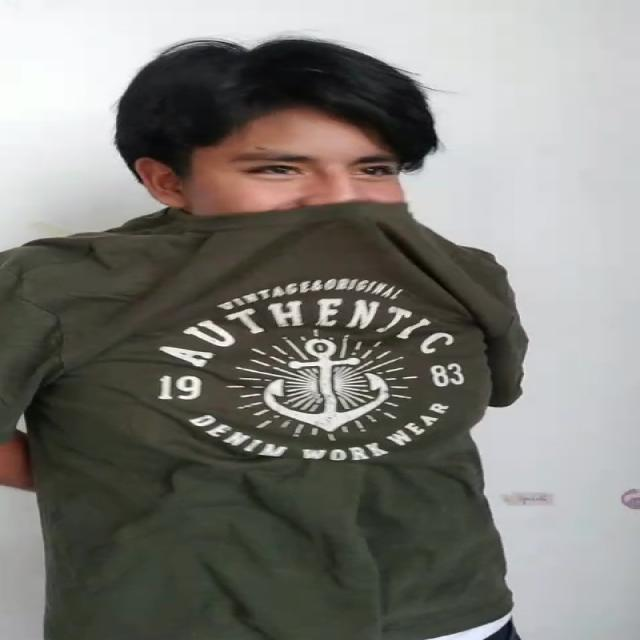8_ropa_rostro: (27, 187, 522, 312)
